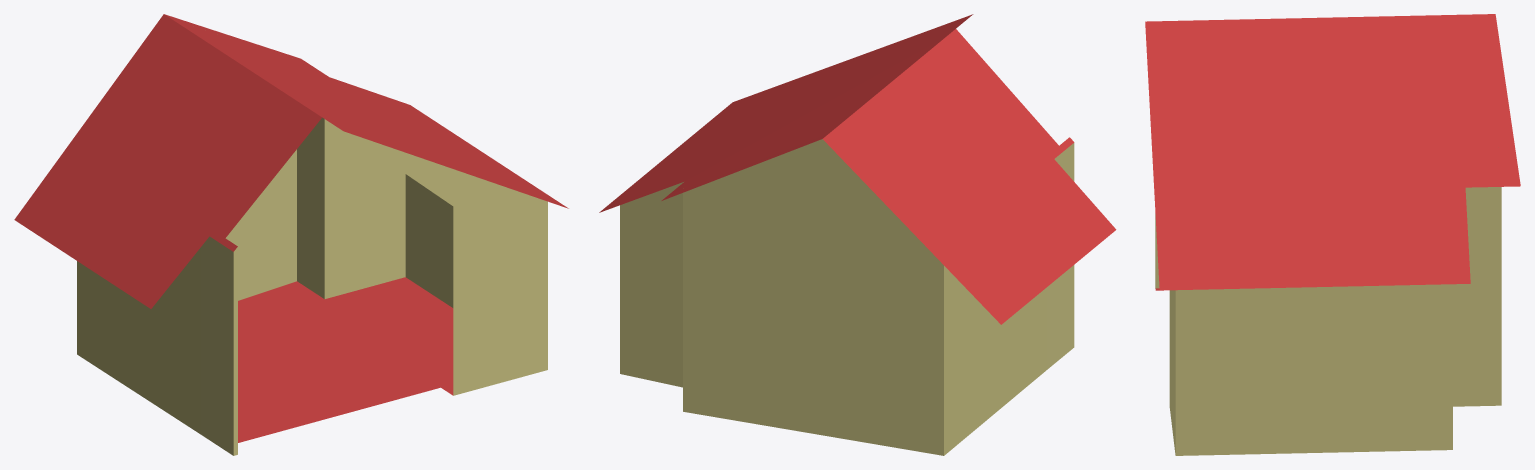
3 views of the same model, side by side, from view 1: azimuth 30°, elevation 25°; view 2: azimuth 150°, elevation 25°; view 3: azimuth 270°, elevation 25° (orthographic). The views are drawn at different scales.
Size of the model in its own units: 22.49 by 16.76 by 15.81.
